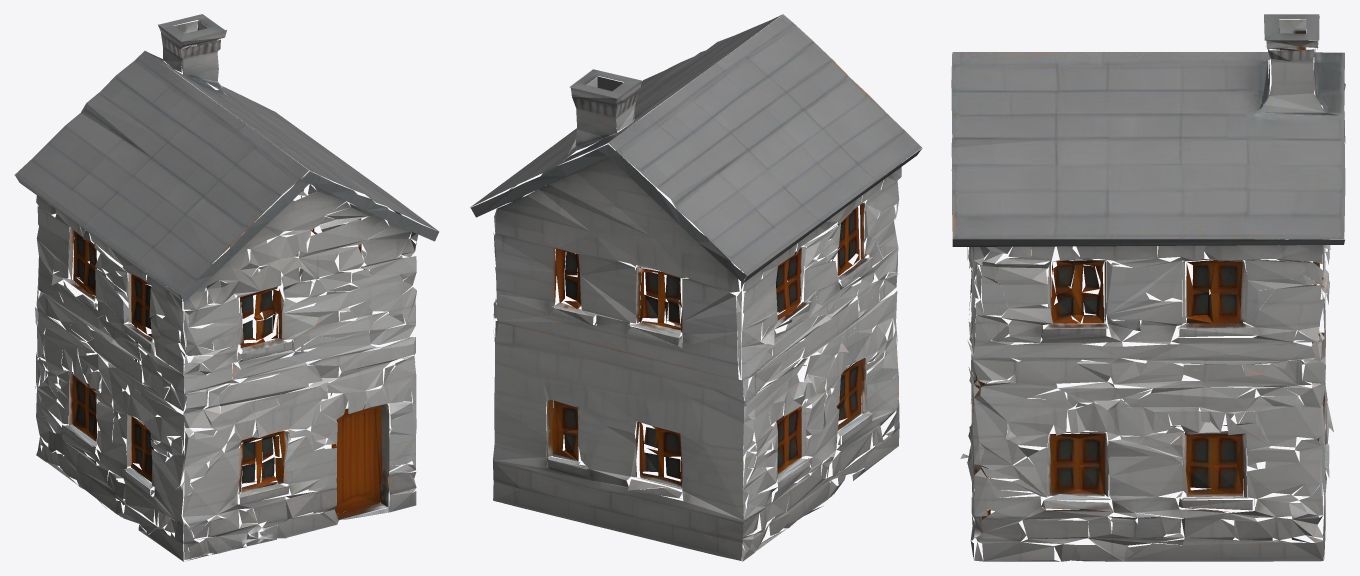
The model's file is building_stone.glb.
3 renders of one model, left to right at view 1: azimuth 30°, elevation 25°; view 2: azimuth 150°, elevation 25°; view 3: azimuth 270°, elevation 25°, orthographic. The views are drawn at different scales.
Parts seen in each view (by area): view 1: textured_mesh.obj; view 2: textured_mesh.obj; view 3: textured_mesh.obj.
Part boxes in pixels (x1,y1,x2,y2): textured_mesh.obj: [14, 14, 439, 561]; textured_mesh.obj: [470, 14, 922, 561]; textured_mesh.obj: [951, 14, 1345, 561].
Size of the model in its own units: 1.35 by 2 by 1.47.
1 material, 1 textured.
